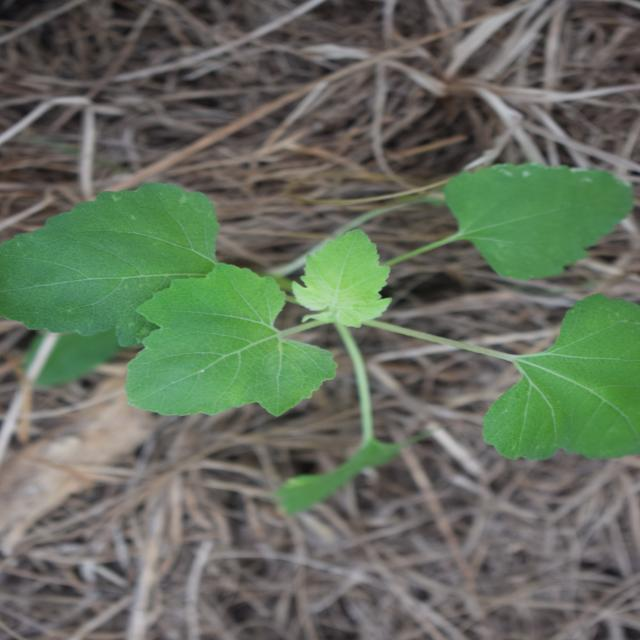cocklebur: (140, 16, 512, 622)
